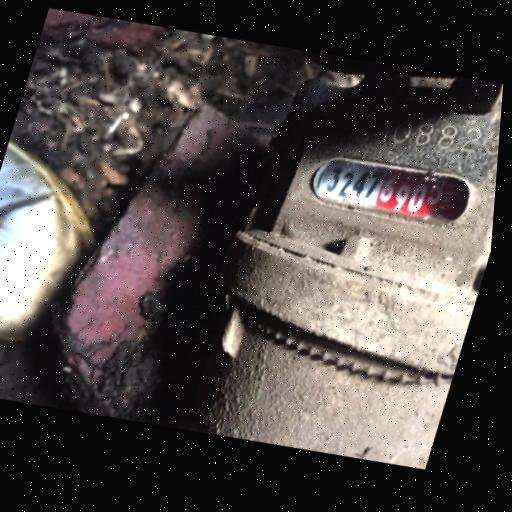0: (402, 171, 435, 218)
2: (332, 161, 361, 206)
3: (317, 156, 348, 201)
4: (346, 163, 374, 208)
5: (418, 172, 455, 222)
6: (373, 167, 402, 211)
7: (359, 164, 389, 210)
9: (388, 168, 418, 216)
border_water_meter_number: (299, 140, 482, 240)
